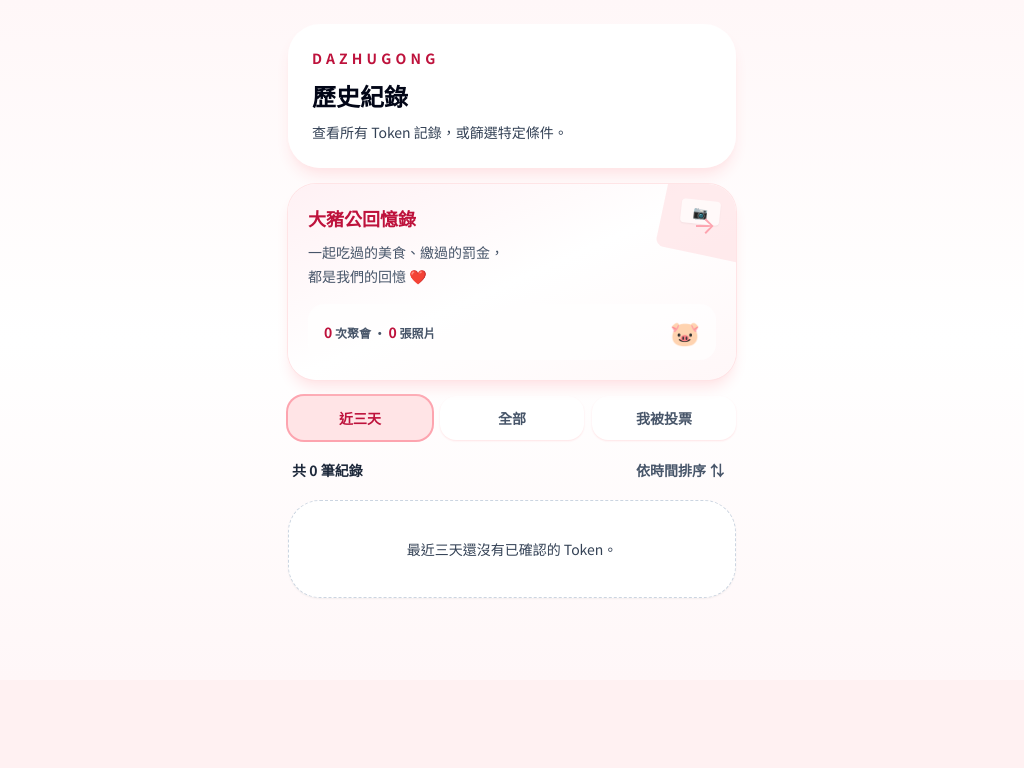
Scenario: History page › 我被投票 scope › shows the explanation banner and is not limited to the last 3 days
Click the tab "我被投票" at (664, 418), box [592,396,736,440]
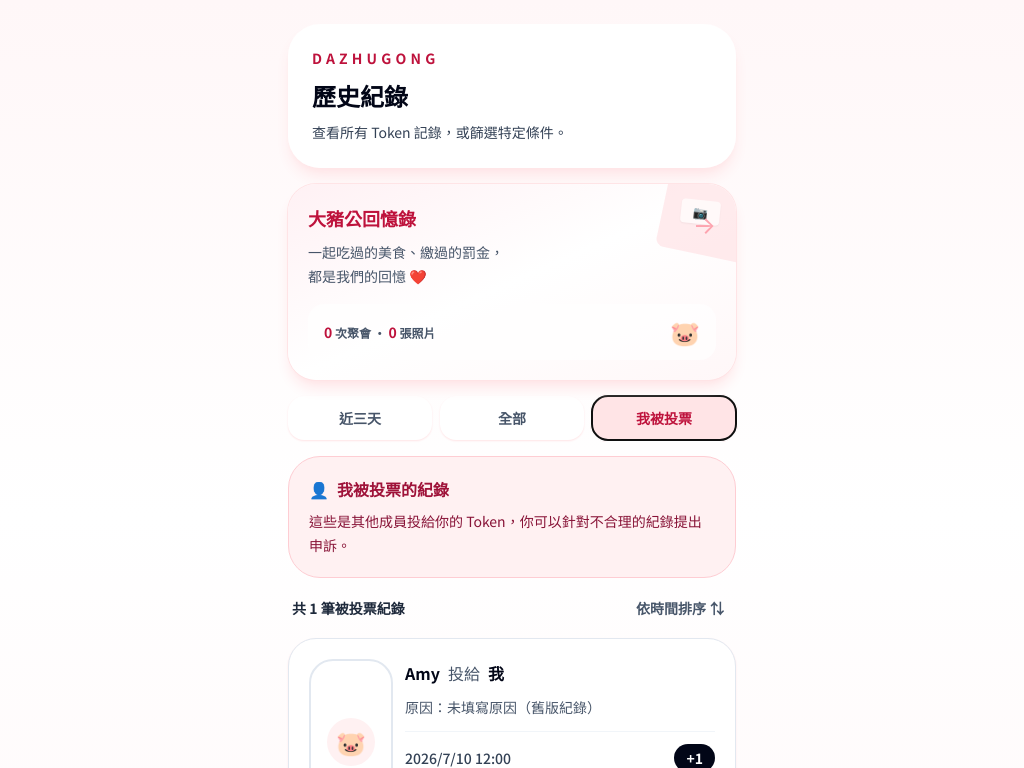
Now the text "我被投票的紀錄" is shown, box [337,477,449,501]
Now the text "這些是其他成員投給你的 Token，你可以針對不合理的紀錄提出申訴。" is shown, box [309,509,715,557]
Now the text "共 1 筆被投票紀錄" is shown, box [292,598,405,618]
